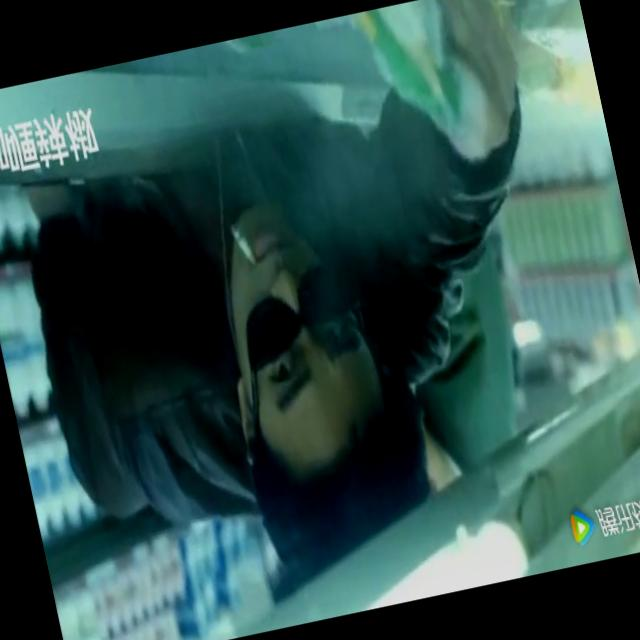smoke: (229, 220, 255, 266)
